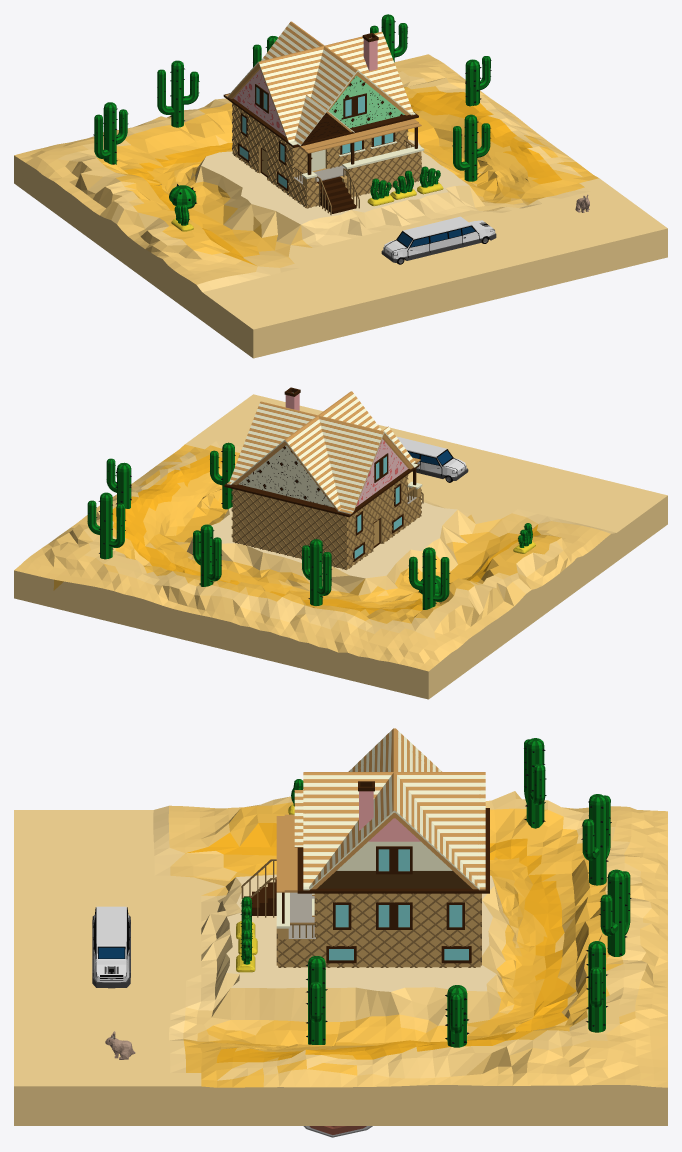
The picture shows the model from 3 angles, top to bottom: view 1: azimuth 30°, elevation 25°; view 2: azimuth 150°, elevation 25°; view 3: azimuth 270°, elevation 25°; orthographic projection. The views are drawn at different scales.
Visible parts, largest first — view 1: Cube.001, Cube.1102, VEHICLES_LIMOUSINE, Cylinder.037, Cylinder.044, Cylinder.045, Cylinder.038, Cylinder.042, Cylinder.039, Cylinder.041, Sphere.023; view 2: Cube.001, Cube.1102, VEHICLES_LIMOUSINE, Cylinder.042, Cylinder.045, Cylinder.044, Cylinder.043, Cylinder.037, Cylinder.038; view 3: Cube.001, Cube.1102, VEHICLES_LIMOUSINE, Cylinder.043, Cylinder.044, Cylinder.045, Cylinder.042, Cylinder.037, Cylinder.038, Cylinder.041.
Part boxes in pixels (box(x1,y1,x2,y2)): Cube.001: box(14, 54, 667, 358); Cube.1102: box(223, 21, 424, 215); VEHICLES_LIMOUSINE: box(381, 216, 496, 264); Cylinder.037: box(452, 114, 490, 181); Cylinder.044: box(157, 60, 199, 127); Cylinder.045: box(93, 102, 128, 164); Cylinder.038: box(465, 56, 491, 106); Cylinder.042: box(370, 14, 407, 62); Cylinder.039: box(367, 178, 394, 205); Cylinder.041: box(417, 166, 443, 194); Sphere.023: box(169, 184, 196, 208); Cube.001: box(14, 394, 667, 699); Cube.1102: box(224, 387, 423, 569); VEHICLES_LIMOUSINE: box(396, 436, 468, 482); Cylinder.042: box(87, 492, 125, 559); Cylinder.045: box(408, 547, 450, 609); Cylinder.044: box(302, 539, 331, 605); Cylinder.043: box(192, 524, 221, 586); Cylinder.037: box(210, 442, 239, 509); Cylinder.038: box(106, 458, 131, 508); Cube.001: box(14, 791, 667, 1125); Cube.1102: box(241, 728, 489, 967); VEHICLES_LIMOUSINE: box(92, 906, 130, 988); Cylinder.043: box(599, 869, 631, 956); Cylinder.044: box(581, 794, 611, 885); Cylinder.045: box(524, 738, 546, 828); Cylinder.042: box(586, 941, 607, 1032); Cylinder.037: box(306, 956, 327, 1044); Cylinder.038: box(445, 985, 469, 1047); Cylinder.041: box(236, 929, 255, 972).
Bounding box in the file's own units: 4002 × 2343 × 4001.
Materials: 33 (3 with a texture image).
